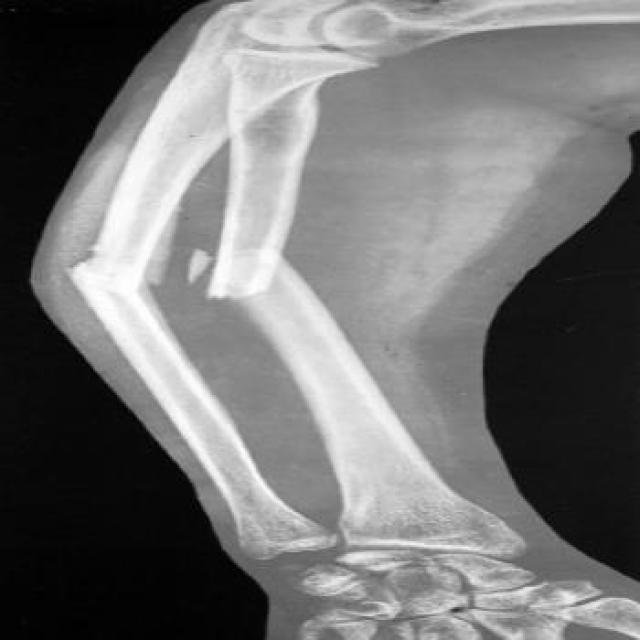Fracture: (194, 247, 326, 301), (54, 252, 174, 297)
